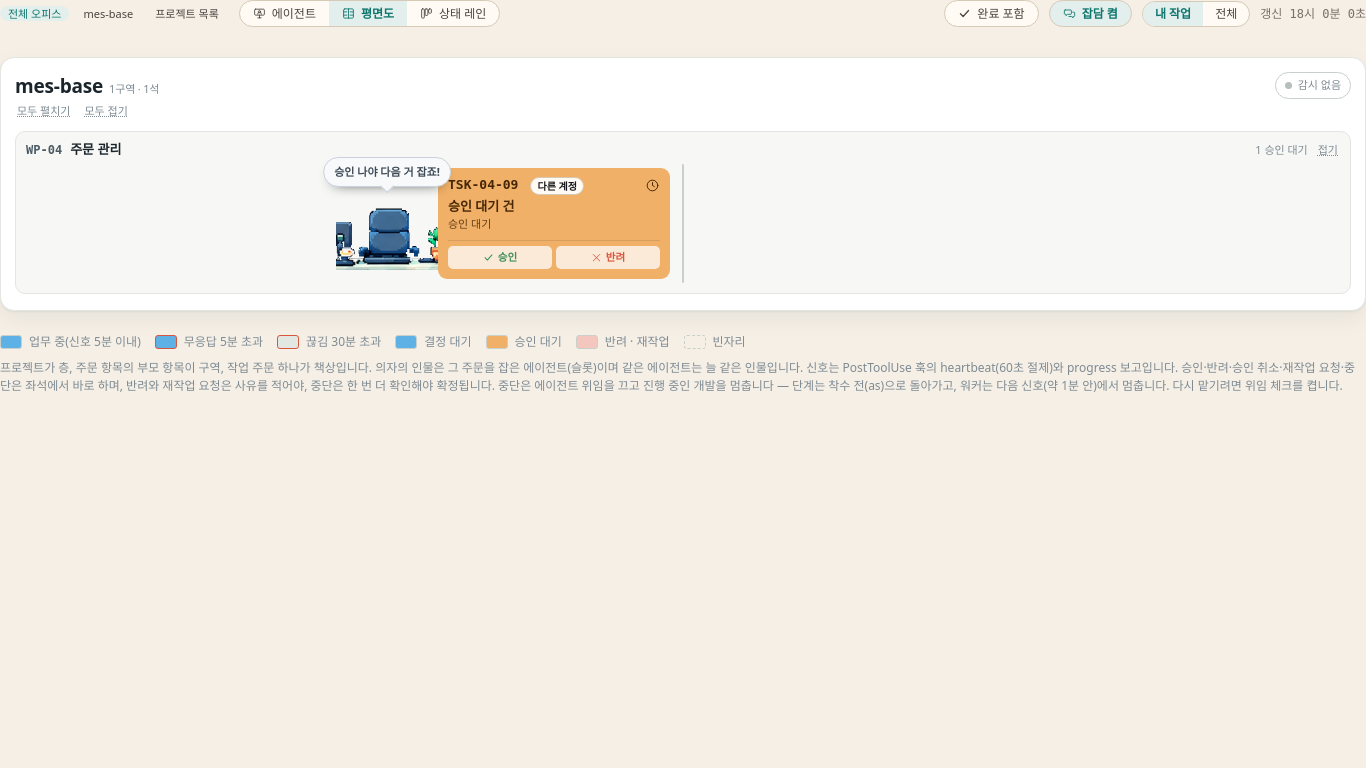
Test case: SeatmapView — 좌석에서 바로 결재 › 승인이 실패하면 그 좌석의 상세 팝업을 열어 사유를 보여 준다
Click the button "승인".
click(500, 257)  # box x1=448 y1=246 x2=552 y2=269
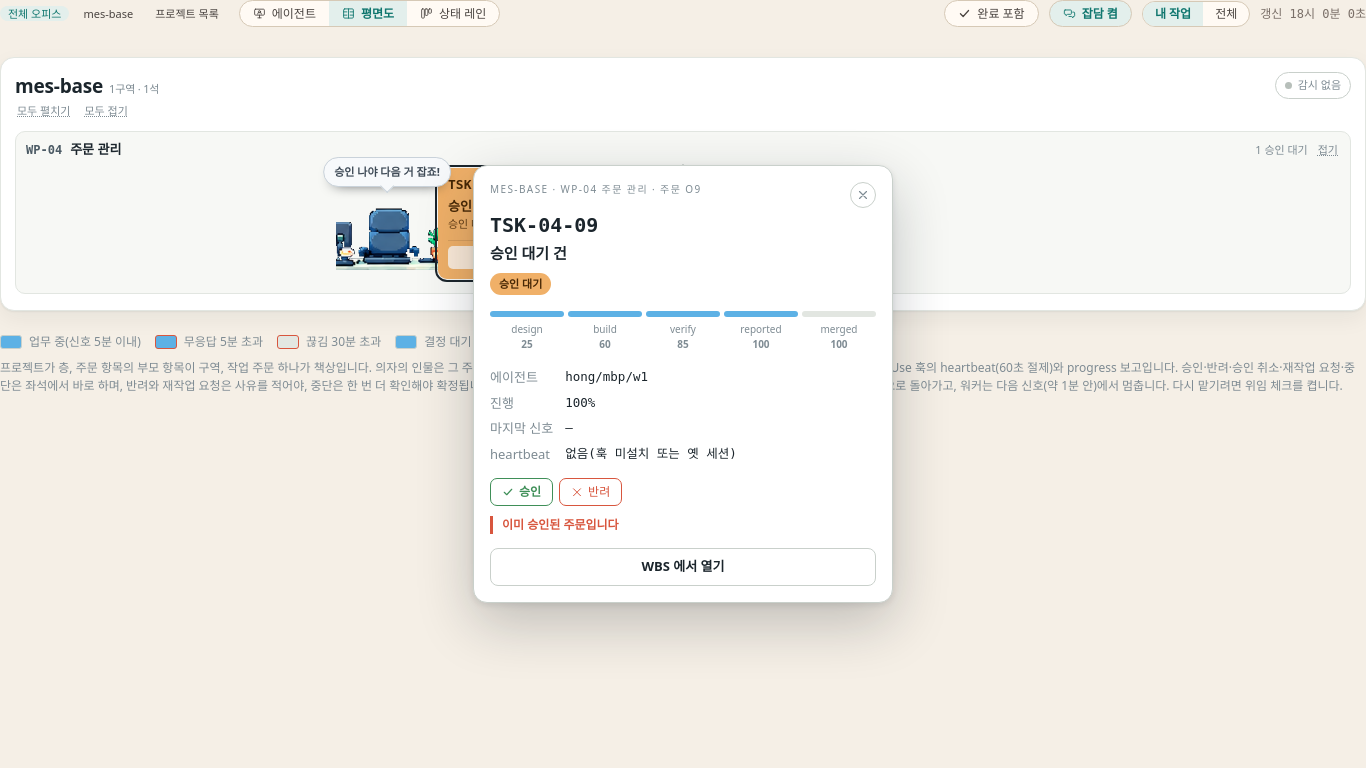
Result: the text "이미 승인된 주문입니다" is shown at x1=490 y1=516 x2=876 y2=534
